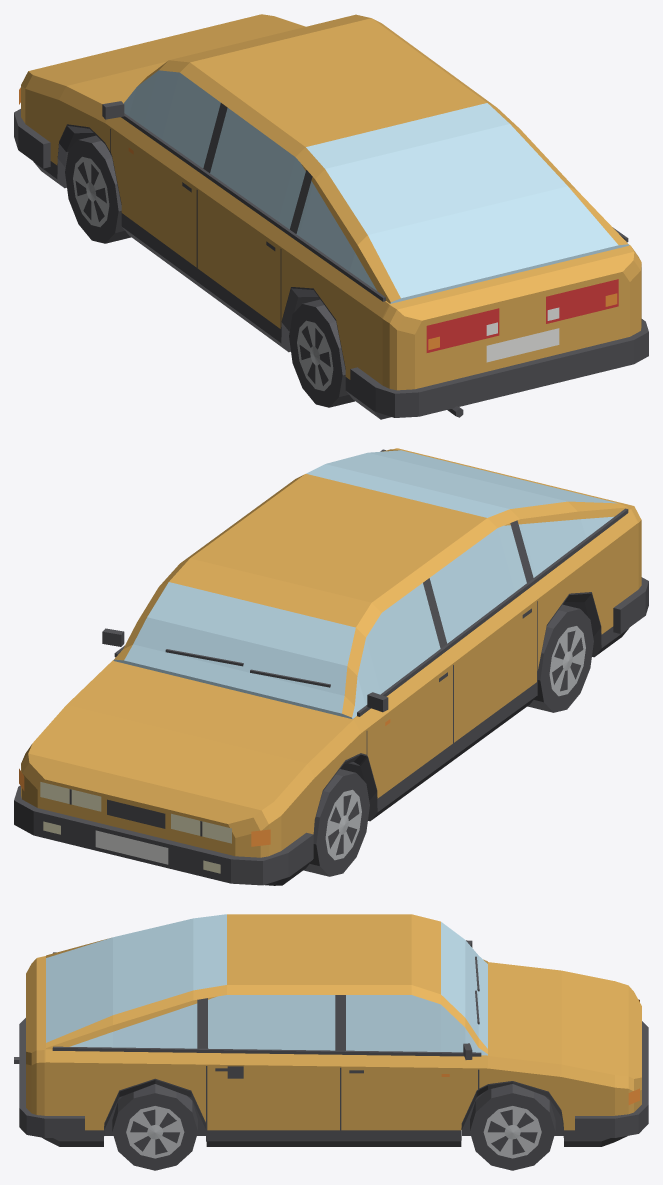
The model's file is saab_9000.glb.
3 renders of one model, top to bottom at view 1: azimuth 30°, elevation 25°; view 2: azimuth 150°, elevation 25°; view 3: azimuth 270°, elevation 25°, orthographic. The views are drawn at different scales.
Parts seen in each view (by area): view 1: body, door_FL, wheel_FL, wheel_RL; view 2: body, door_FL, wheel_FL, wheel_RL; view 3: body, door_FR, wheel_FR, wheel_RR.
Boxes of the visible parts, <box> form: body: <box>14,14,648,419</box>; door_FL: <box>110,70,224,289</box>; wheel_FL: <box>65,135,131,243</box>; wheel_RL: <box>289,299,354,407</box>; body: <box>14,448,648,885</box>; door_FL: <box>355,580,453,821</box>; wheel_FL: <box>303,769,369,876</box>; wheel_RL: <box>527,604,593,712</box>; body: <box>14,914,648,1146</box>; door_FR: <box>340,995,478,1146</box>; wheel_FR: <box>470,1084,555,1170</box>; wheel_RR: <box>112,1084,197,1170</box>.
Bounding box in the file's own units: 1.95 × 1.42 × 4.74.
